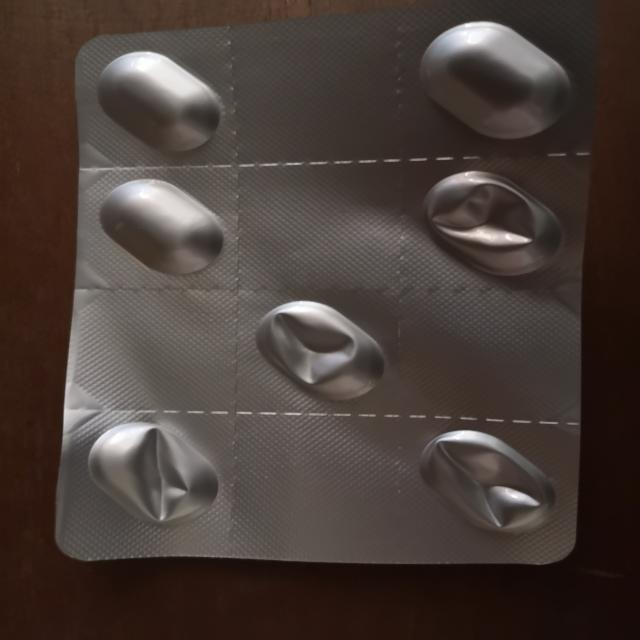Empty: (404, 165, 570, 282), (234, 290, 396, 406), (408, 426, 564, 545), (71, 414, 226, 530)
Pill: (402, 13, 576, 150), (82, 172, 241, 280), (78, 50, 234, 160)
